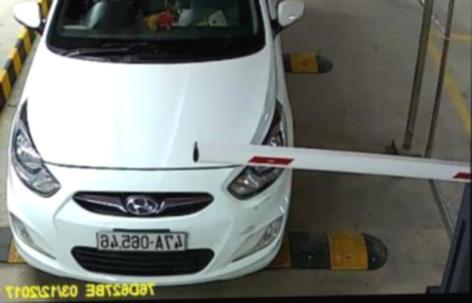License_Plate: (90, 220, 193, 261)
